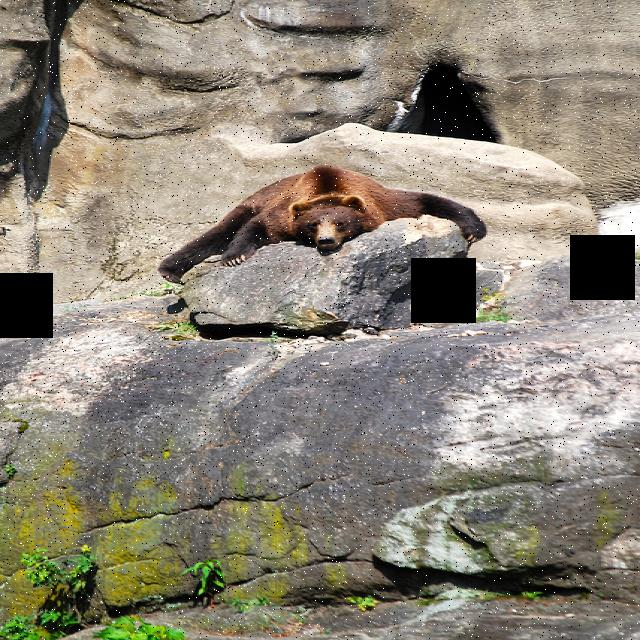Bear: (157, 155, 483, 279)
